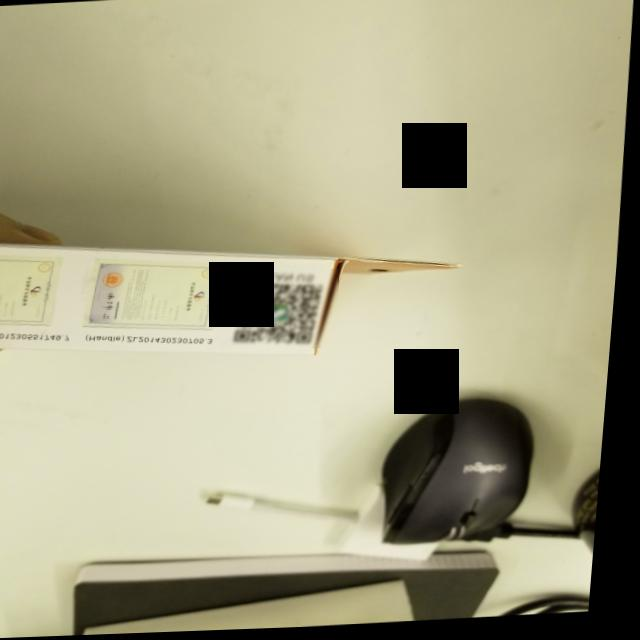QR_CODE: (225, 270, 346, 355)
